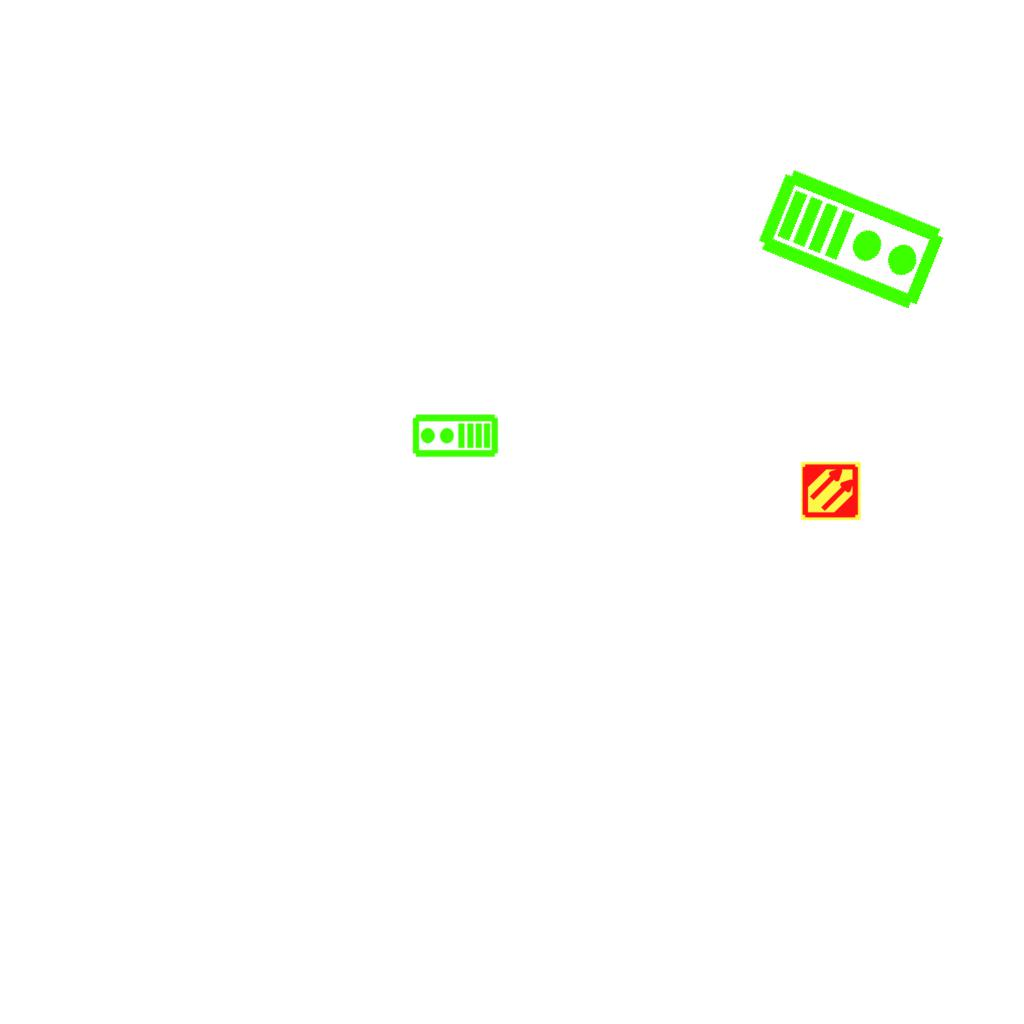ASR_Ansaugrauchmelder: (800, 460, 862, 522)
Gegensprechanlage_mit_Video: (753, 160, 952, 316), (411, 413, 499, 460)
